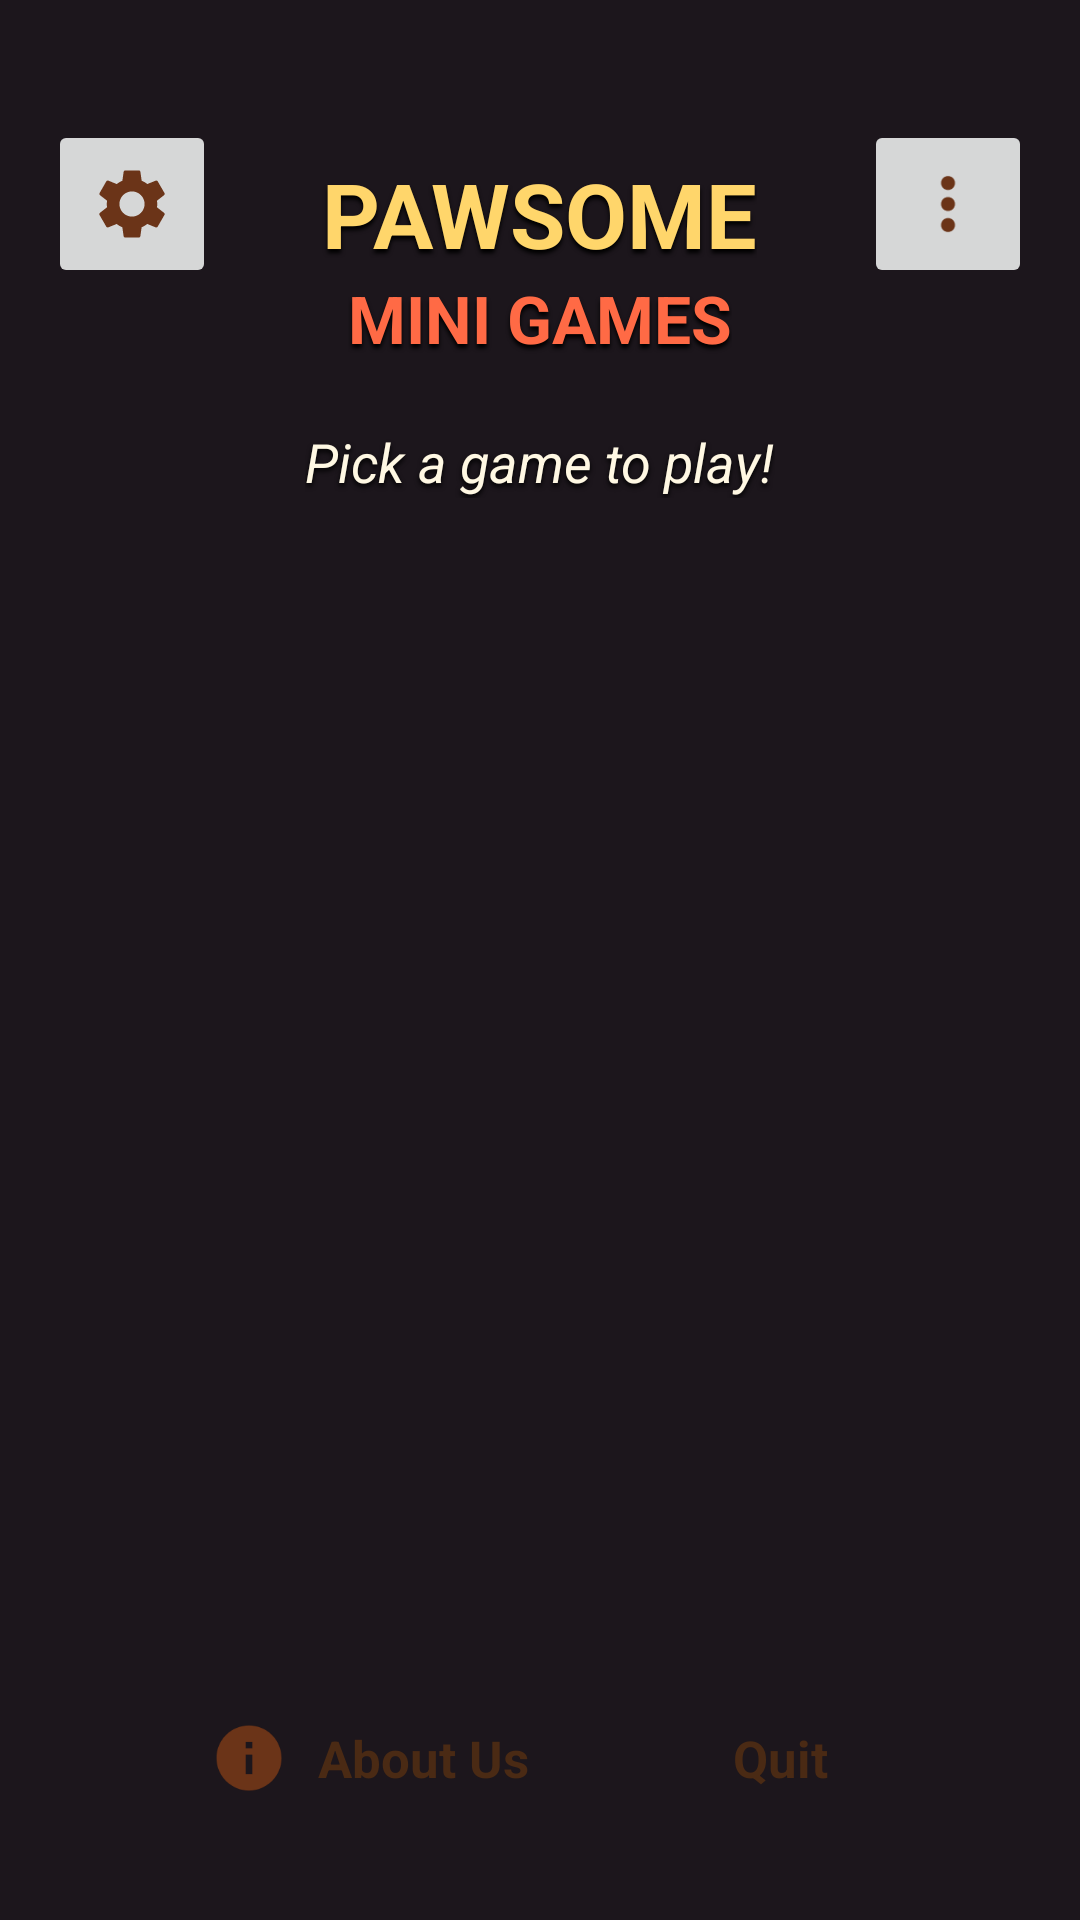

Locate icon controls on the screen. Image size 1080 x 1920, boxes as (x1, y1, x2, y2).
info: (216, 1725, 282, 1791)
More: (876, 138, 1020, 270)
Settings: (60, 138, 204, 270)
